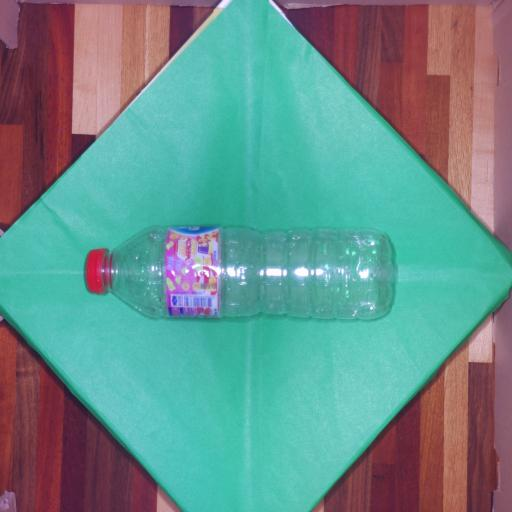bottle: (75, 212, 407, 325)
